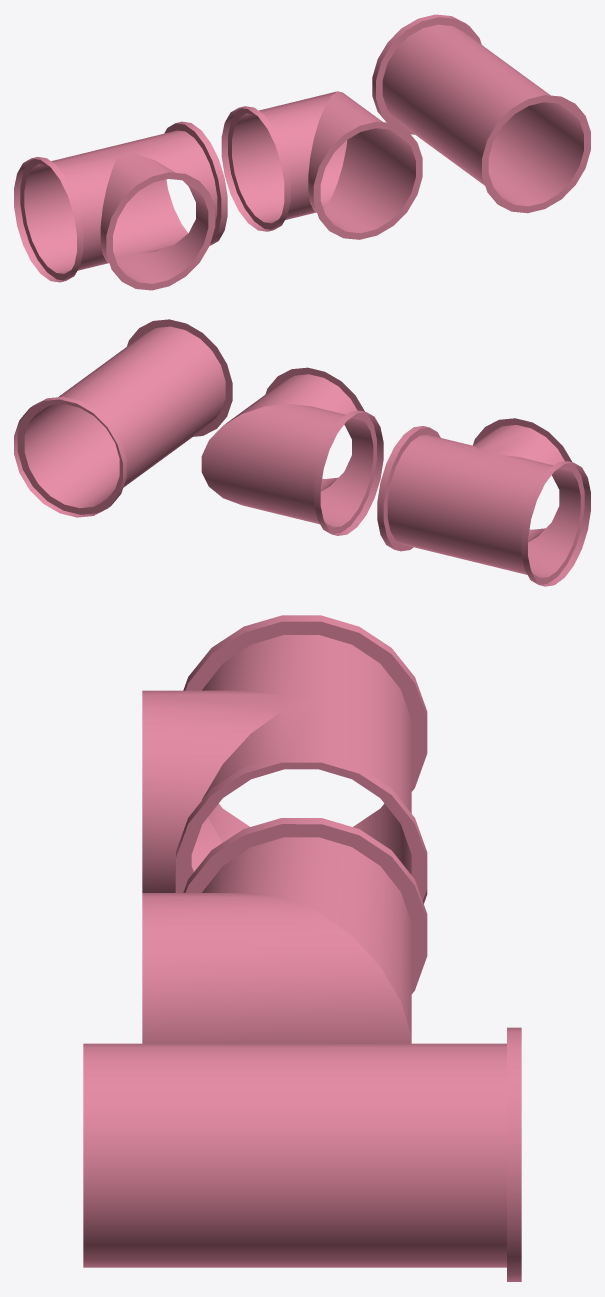
The model's file is TLR Rioolpipes.fbx.
The picture shows the model from 3 angles, top to bottom: view 1: azimuth 30°, elevation 25°; view 2: azimuth 150°, elevation 25°; view 3: azimuth 270°, elevation 25°; orthographic projection. The views are drawn at different scales.
Visible parts, largest first — view 1: PipeRecht, PIpeTSplit, PIpeHoek; view 2: PipeRecht, PIpeTSplit, PIpeHoek; view 3: PipeRecht, PIpeHoek, PIpeTSplit.
Part boxes in pixels (x1,y1,x2,y2): PipeRecht: [372, 14, 590, 213]; PIpeTSplit: [14, 121, 227, 290]; PIpeHoek: [221, 91, 422, 239]; PipeRecht: [14, 319, 232, 517]; PIpeTSplit: [377, 418, 590, 586]; PIpeHoek: [201, 367, 383, 535]; PipeRecht: [83, 1027, 521, 1281]; PIpeHoek: [142, 818, 427, 1043]; PIpeTSplit: [142, 615, 427, 903].
Size of the model in its own units: 451 by 100 by 175.
